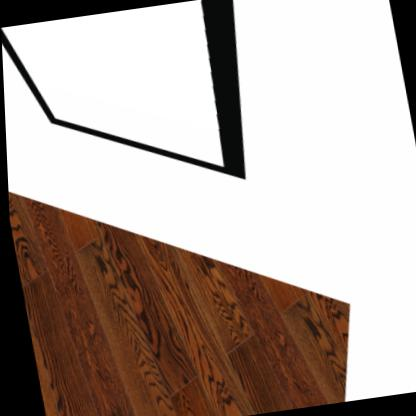Wooden floor: (7, 192, 348, 416)
